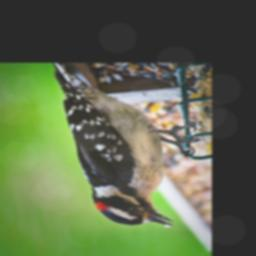Woodpecker: (52, 63, 200, 227)
